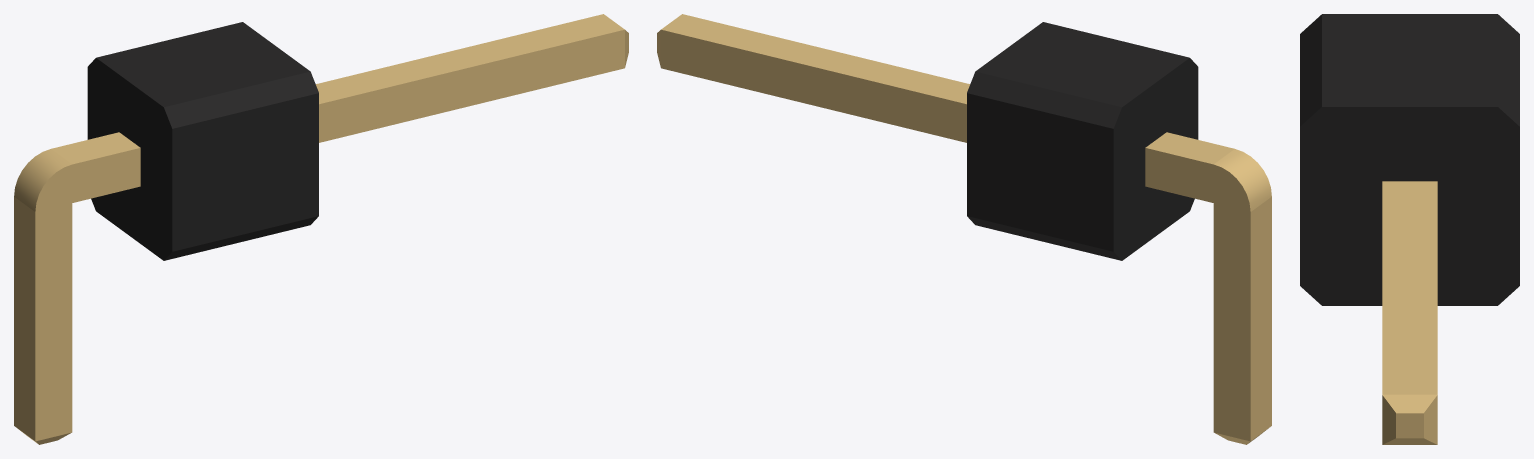
File: kc-pinheader_1x01_p2.54mm_horizontal.glb
3 views of the same model, side by side, from view 1: azimuth 30°, elevation 25°; view 2: azimuth 150°, elevation 25°; view 3: azimuth 270°, elevation 25° (orthographic). The views are drawn at different scales.
Visible parts, largest first — view 1: 0_0_0_0, 0.75_0.5_0.25_0.9; view 2: 0_0_0_0, 0.75_0.5_0.25_0.9; view 3: 0_0_0_0, 0.75_0.5_0.25_0.9.
Part boxes in pixels (x1,y1,x2,y2): 0_0_0_0: [87, 22, 318, 260]; 0.75_0.5_0.25_0.9: [14, 14, 628, 444]; 0_0_0_0: [967, 22, 1198, 260]; 0.75_0.5_0.25_0.9: [657, 14, 1271, 444]; 0_0_0_0: [1300, 14, 1519, 305]; 0.75_0.5_0.25_0.9: [1382, 181, 1437, 444].
Bounding box in the file's own units: 1.04 × 0.554 × 0.254.
